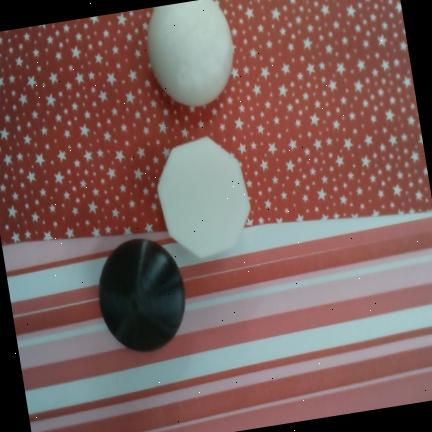Esfera: (99, 239, 186, 352), (147, 0, 234, 105)
Prisma_hexagonal: (157, 136, 251, 260)
